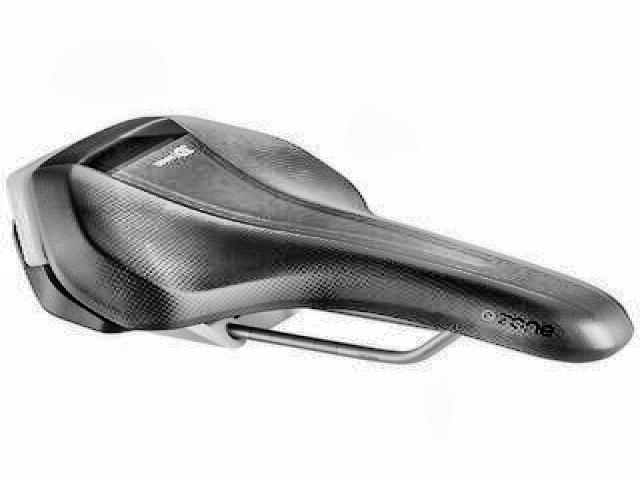saddle: (5, 109, 638, 374)
